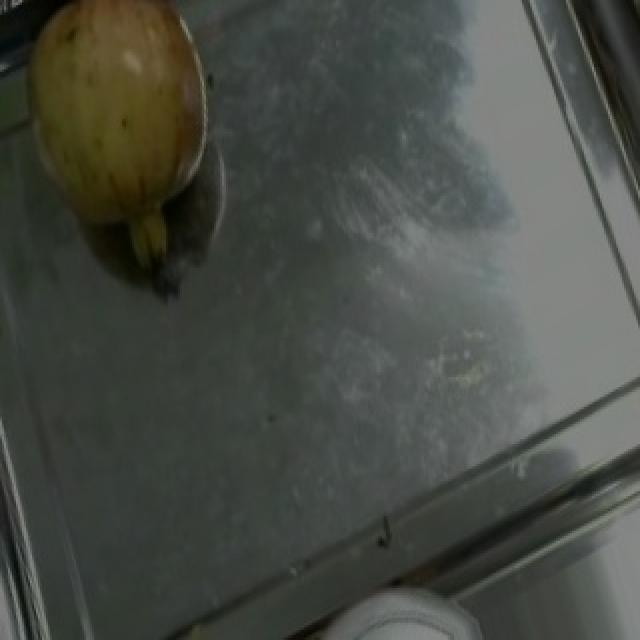fruit: (0, 0, 240, 258)
